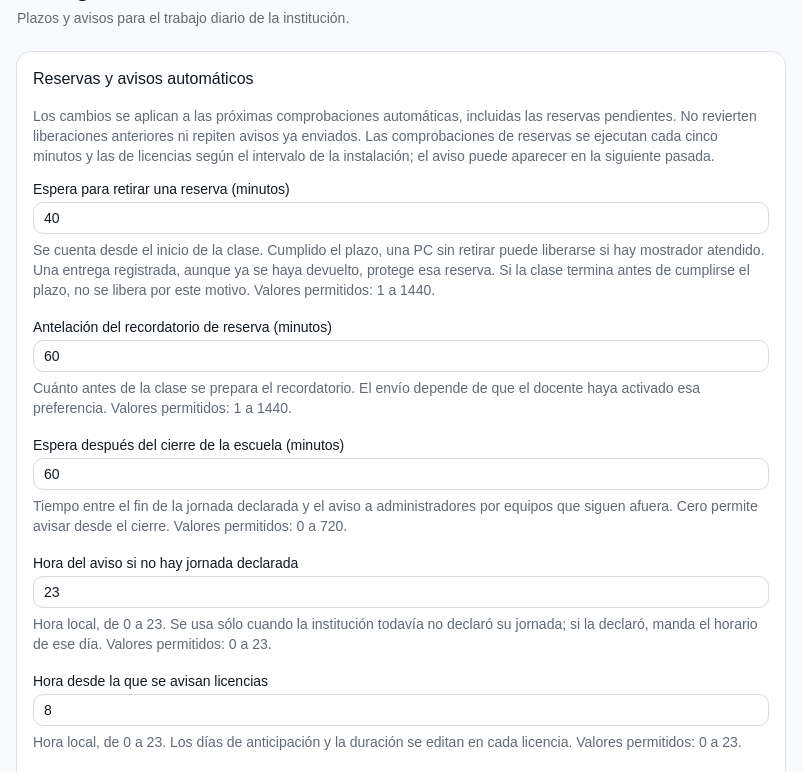
Test: un conflicto conserva la edición y permite recargar la versión vigente
Replace the text in the number field labelled "Espera para retirar una reserva (minutos)" with "10": (401, 218) left=33, top=202, right=769, bottom=234
(page scrolled)
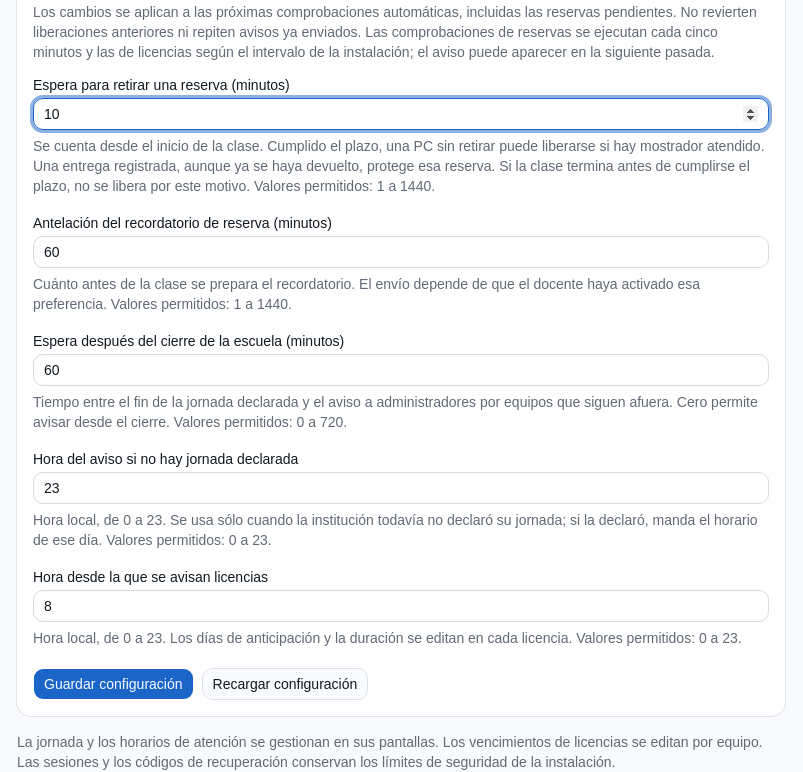
Click the button "Guardar configuración": (113, 684) left=33, top=668, right=194, bottom=700
(page scrolled)
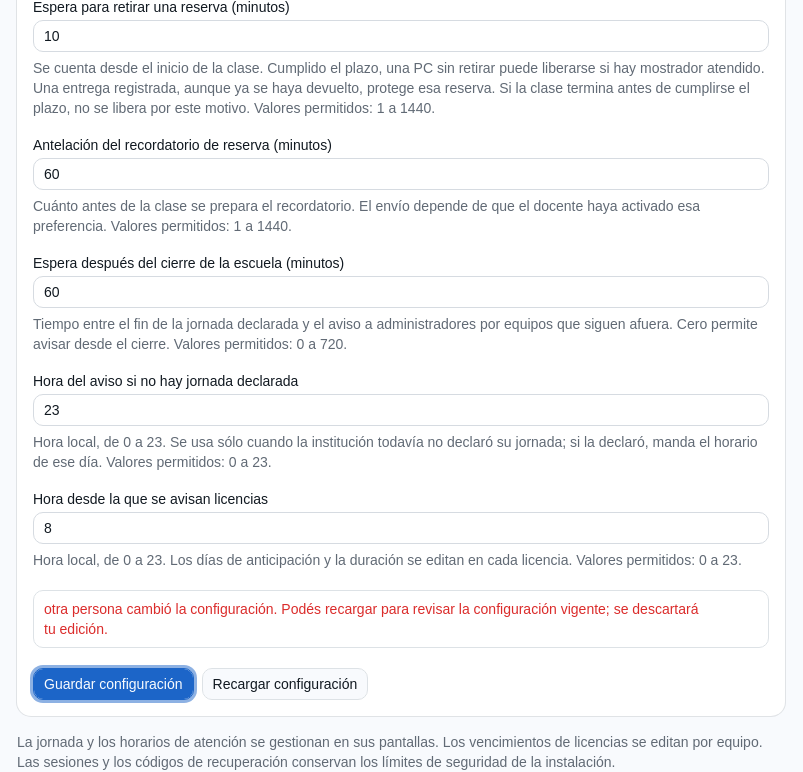
Check: the text "otra persona cambió" is shown, box left=44, top=601, right=274, bottom=617
Click the button "Recargar configuración": (285, 684) left=202, top=668, right=368, bottom=700
(page scrolled)
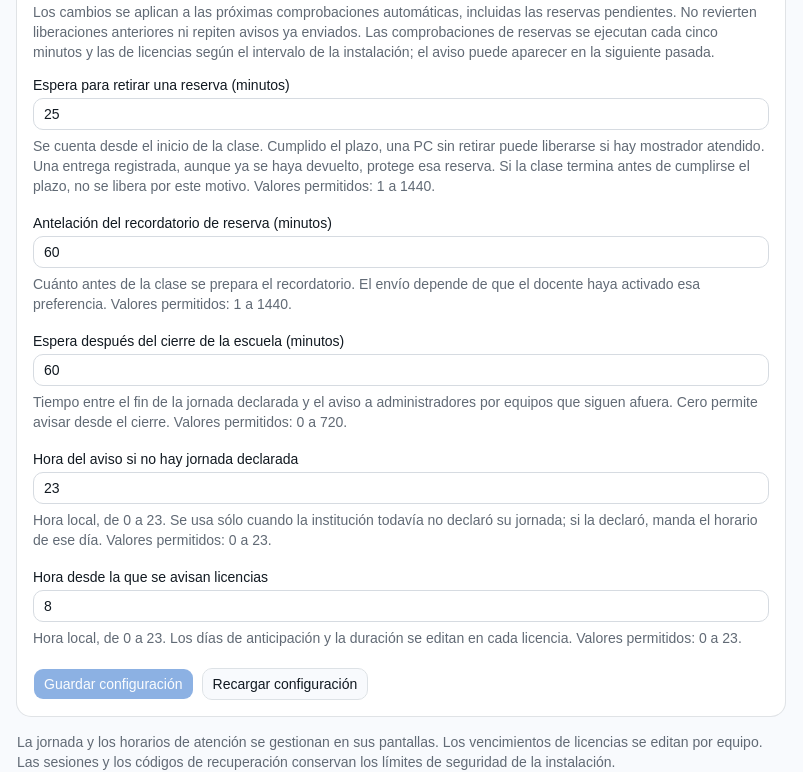
Check: the number field labelled "Espera para retirar una reserva (minutos)" holds "25", box left=33, top=98, right=769, bottom=130
